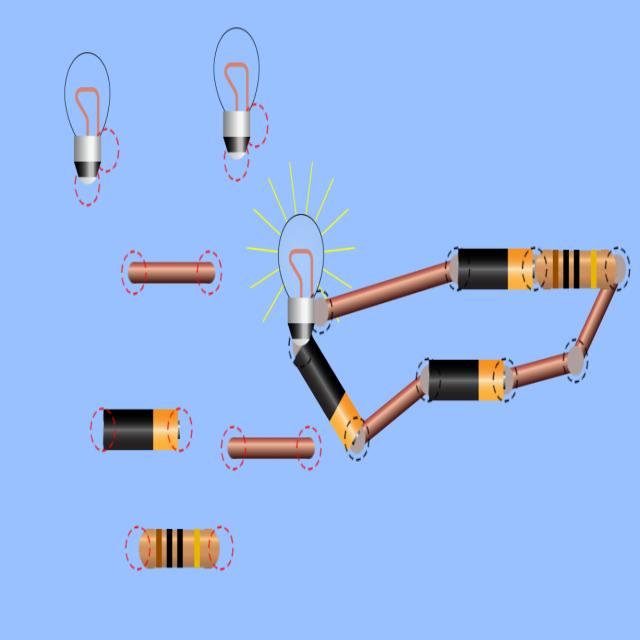Battery: (294, 337, 362, 449), (102, 409, 179, 450), (458, 249, 532, 290), (429, 361, 504, 400)
Light Bulb: (278, 213, 324, 353), (214, 26, 260, 161), (64, 51, 110, 185)
Resistor: (139, 528, 220, 568), (535, 251, 618, 289)
Wire: (328, 262, 451, 317), (362, 380, 423, 441), (578, 286, 616, 354), (128, 262, 215, 284), (228, 438, 315, 460), (513, 354, 569, 386)
